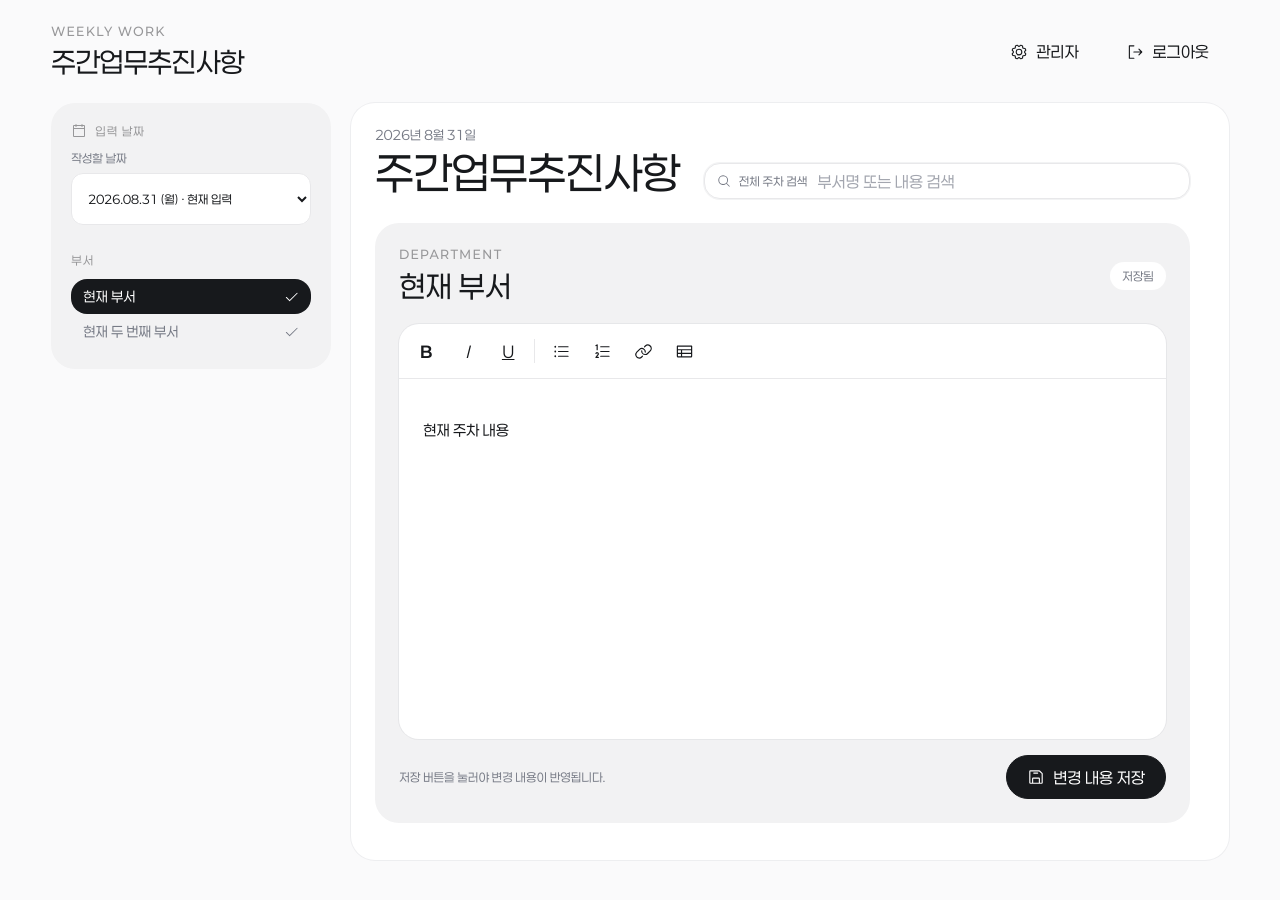
Scenario: Workspace › Given an archive search result, when the contributor selects append in the reuse dialog, then formatted source content is added without leaving the current edit
The image size is (1280, 900).
In the dropdown labelled "전체 주차 검색": [996, 181] box [815,170,1177,192], type "대체"
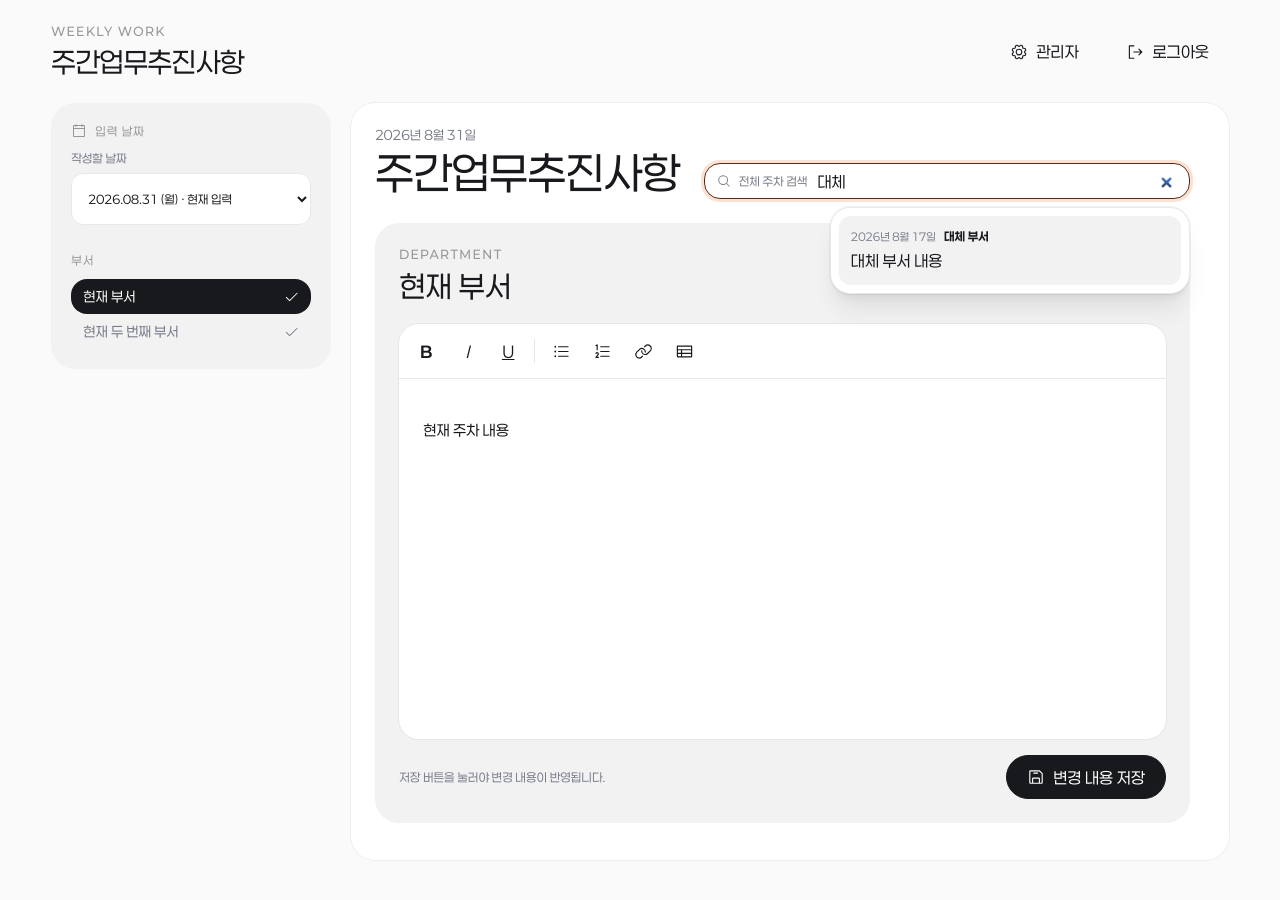
Click the option "2026년 8월 17일 대체 부서 대체 부서 내용": [893, 236] box [839,216,1181,285]
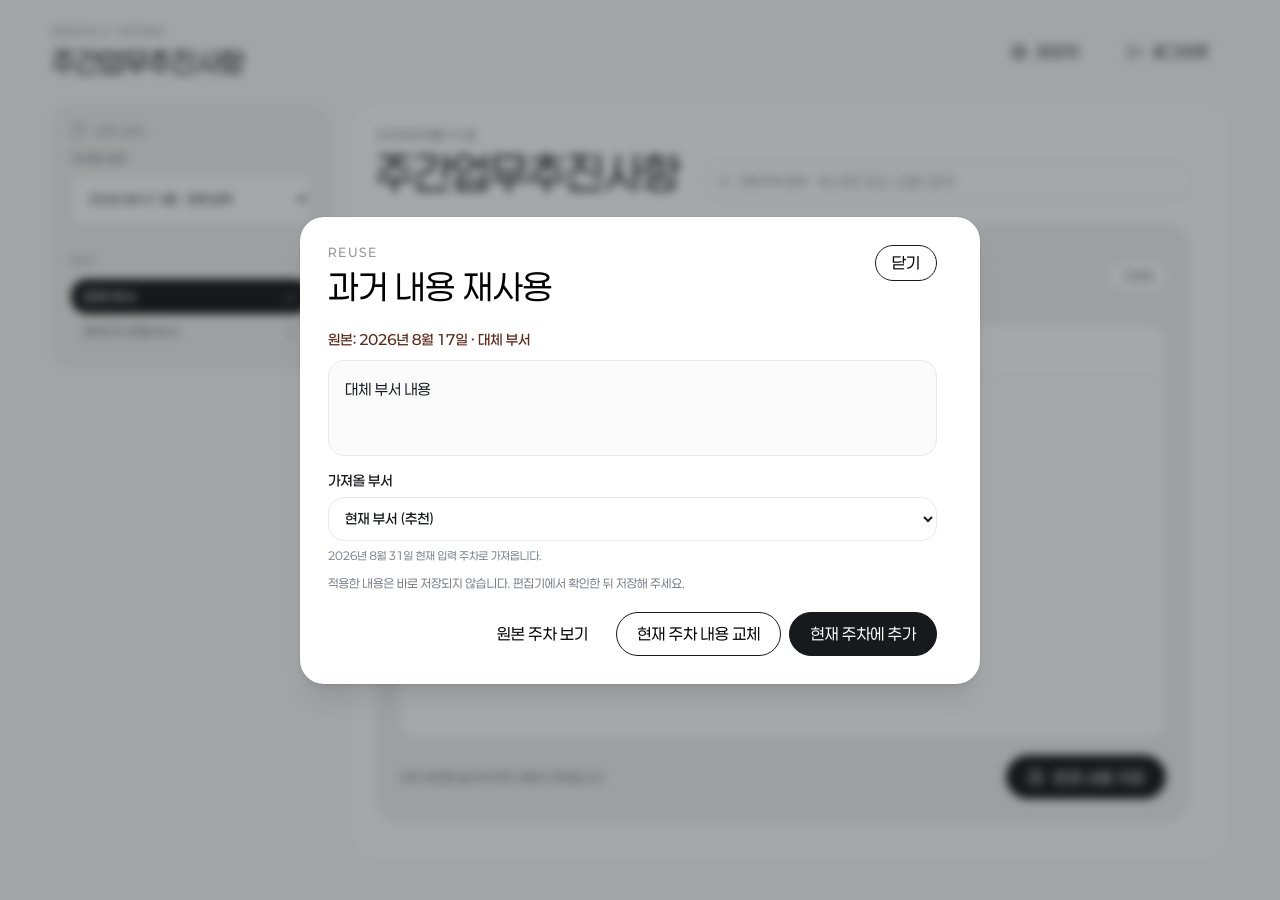
Expected: the heading "과거 내용 재사용" is shown, [328,266,552,306]
Expected: the text "원본: 2026년 8월 17일 · 대체 부서" is shown, [328,330,530,348]
Click the button "현재 주차에 추가": [863, 634] box [789,612,937,656]
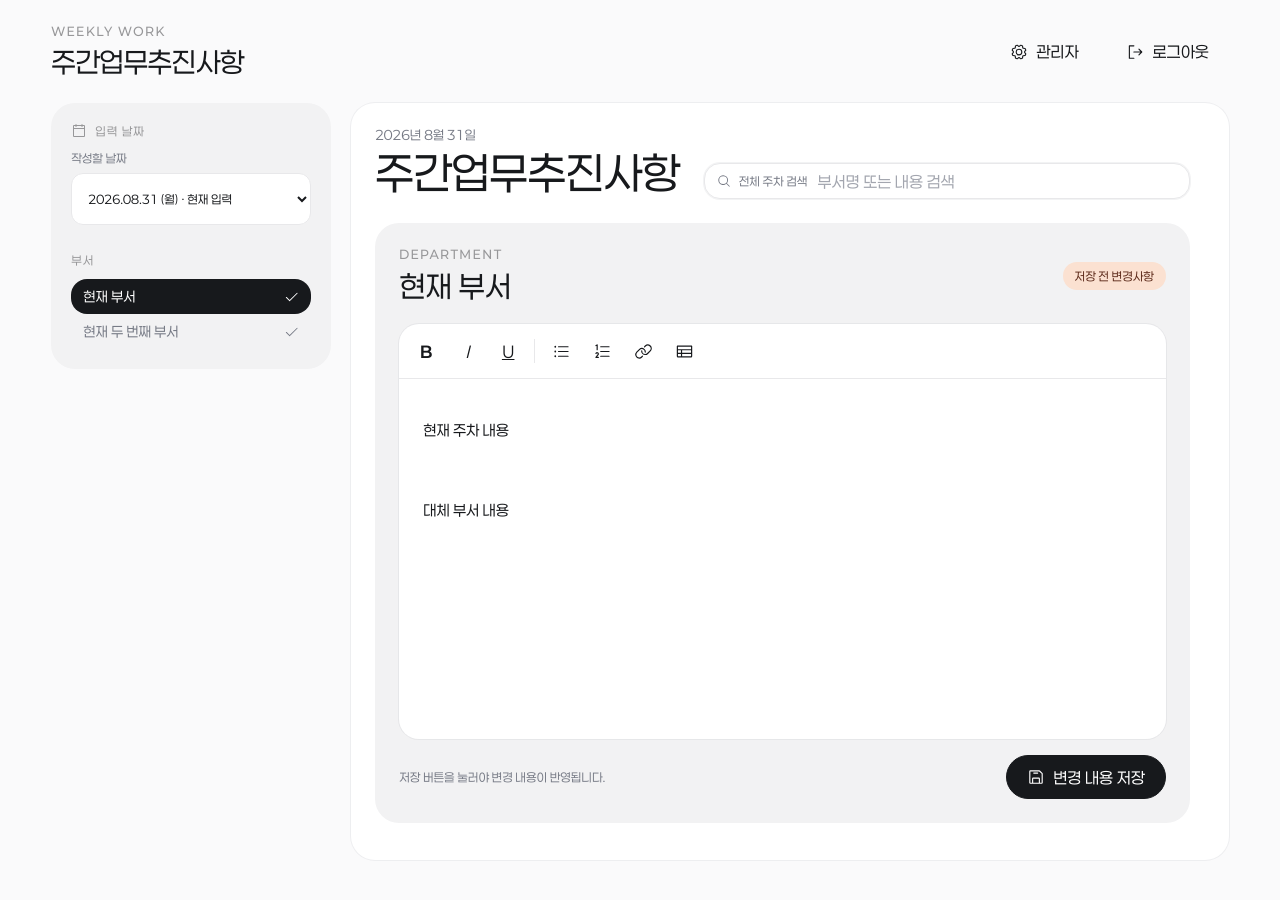
Expected: the heading "과거 내용 재사용" is gone
Expected: the field named "업무 내용" reads "현재 주차 내용 대체 부서 내용", [423,421,509,518]
Expected: the text "저장 전 변경사항" is shown, [1063,262,1166,290]
